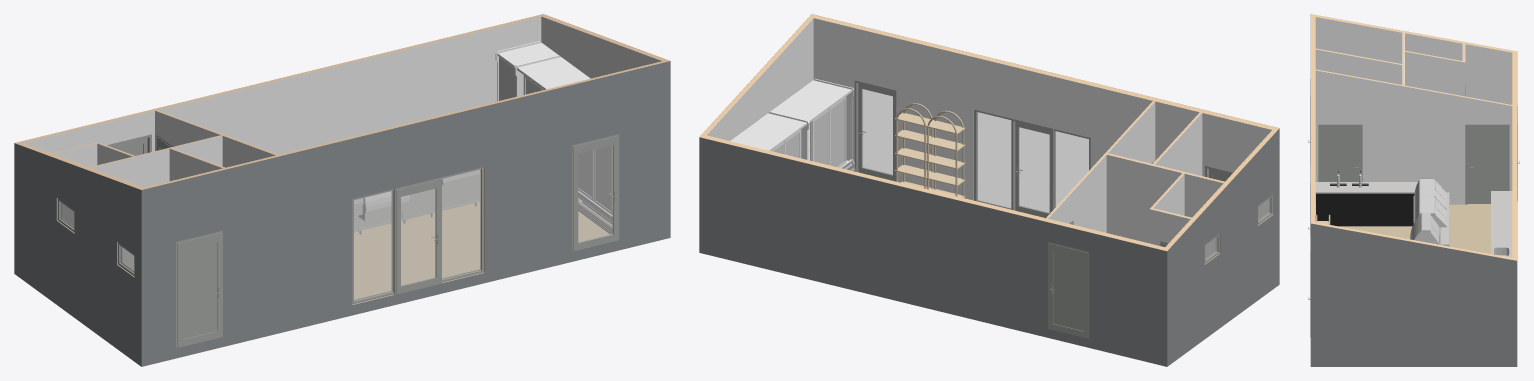
The model's file is Valkininkai_Mėsos krautuvėlė(5,0x12,0)_R01.fbx.
The picture shows the model from 3 angles, left to right: view 1: azimuth 30°, elevation 25°; view 2: azimuth 150°, elevation 25°; view 3: azimuth 270°, elevation 25°; orthographic projection. The views are drawn at different scales.
Visible parts, largest first — view 1: IfcBuildingElementPart/Part:2405523, IfcBuildingElementPart/Part:2405279, IfcBuildingElementPart/Part:2405271, IfcBuildingElementPart/Part:2405282, IfcDoor/Simple_vitree_-_03:1000x2300:2318509, IfcDoor/Simple_vitree_-_03:1000x2300:2319070, IfcDoor/Simple_vitree_-_03:1000x2300 nepermatomos durys:2319, IfcWindow/Aluprof_MB-86-SI_E_Alu_Window-1sash-FIX_ENG_R-0004, IfcWindow/Aluprof_MB-86-SI_E_Alu_Window-1sash-FIX_ENG_R-000, IfcBuildingElementPart/Part:2405276, IfcBuildingElementProxy/Freezer_-_Upright_Two_Door:62" Lengt, IfcBuildingElementPart/Part:2405264 (+14 smaller); view 2: IfcBuildingElementPart/Part:2405280, IfcBuildingElementPart/Part:2405522, IfcBuildingElementPart/Part:2405271, IfcBuildingElementProxy/Freezer_-_Upright_Two_Door:62" Lengt, IfcBuildingElementPart/Part:2405276, IfcBuildingElementPart/Part:2405263, IfcDoor/Simple_vitree_-_03:1000x2300:2318509, IfcDoor/Simple_vitree_-_03:1000x2300:2319070, IfcDoor/Simple_vitree_-_03:1000x2100:2321252, IfcWindow/Aluprof_MB-86-SI_E_Alu_Window-1sash-FIX_ENG_R-000, IfcBuildingElementPart/Part:2410921, IfcBuildingElementProxy/Freezer_-_Upright_Two_Door:62" Leng (+12 smaller); view 3: IfcBuildingElementPart/Part:2405277, IfcBuildingElementPart/Part:2405268, IfcBuildingElementPart/Part:2405270, IfcBuildingElementProxy/QF_Eagle_BPR-UDD-24-72:BPR-UDD-24-72, IfcDoor/Simple_vitree_-_03:1000x2100:2319457, IfcDoor/Simple_vitree_-_03:1000x2100:2411070, IfcBuildingElementPart/Part:2405282, IfcBuildingElementPart/Part:2405257, IfcBuildingElementPart/Part:2405260, IfcBuildingElementProxy/Food_Service_Equipment-Display_Case. (×2), IfcFurnishingElement/Workshop countertop6:Workshop counterto, IfcBuildingElementPart/Part:2405281 (+8 smaller).
Boxes of the visible parts, left/top/right/bottom form: IfcBuildingElementPart/Part:2405523: left=141, top=61, right=670, bottom=366; IfcBuildingElementPart/Part:2405279: left=23, top=16, right=541, bottom=154; IfcBuildingElementPart/Part:2405271: left=14, top=143, right=141, bottom=366; IfcBuildingElementPart/Part:2405282: left=354, top=199, right=612, bottom=299; IfcDoor/Simple_vitree_-_03:1000x2300:2318509: left=392, top=177, right=441, bottom=294; IfcDoor/Simple_vitree_-_03:1000x2300:2319070: left=572, top=134, right=619, bottom=251; IfcDoor/Simple_vitree_-_03:1000x2300 nepermatomos durys:2319: left=176, top=230, right=222, bottom=347; IfcWindow/Aluprof_MB-86-SI_E_Alu_Window-1sash-FIX_ENG_R-0004: left=352, top=189, right=394, bottom=304; IfcWindow/Aluprof_MB-86-SI_E_Alu_Window-1sash-FIX_ENG_R-000: left=442, top=167, right=483, bottom=282; IfcBuildingElementPart/Part:2405276: left=541, top=16, right=662, bottom=78; IfcBuildingElementProxy/Freezer_-_Upright_Two_Door:62" Lengt: left=578, top=145, right=612, bottom=234; IfcBuildingElementPart/Part:2405264: left=91, top=148, right=169, bottom=270; IfcBuildingElementPart/Part:2405280: left=699, top=137, right=1167, bottom=366; IfcBuildingElementPart/Part:2405522: left=813, top=18, right=1271, bottom=219; IfcBuildingElementPart/Part:2405271: left=1167, top=128, right=1279, bottom=366; IfcBuildingElementProxy/Freezer_-_Upright_Two_Door:62" Lengt: left=770, top=78, right=855, bottom=171; IfcBuildingElementPart/Part:2405276: left=707, top=18, right=813, bottom=140; IfcBuildingElementPart/Part:2405263: left=1106, top=154, right=1182, bottom=243; IfcDoor/Simple_vitree_-_03:1000x2300:2318509: left=1011, top=118, right=1054, bottom=217; IfcDoor/Simple_vitree_-_03:1000x2300:2319070: left=854, top=80, right=896, bottom=181; IfcDoor/Simple_vitree_-_03:1000x2100:2321252: left=1048, top=241, right=1089, bottom=338; IfcWindow/Aluprof_MB-86-SI_E_Alu_Window-1sash-FIX_ENG_R-000: left=974, top=109, right=1015, bottom=209; IfcBuildingElementPart/Part:2410921: left=1048, top=155, right=1106, bottom=232; IfcBuildingElementProxy/Freezer_-_Upright_Two_Door:62" Leng: left=730, top=111, right=808, bottom=159; IfcBuildingElementPart/Part:2405277: left=1310, top=223, right=1516, bottom=366; IfcBuildingElementPart/Part:2405268: left=1315, top=70, right=1512, bottom=204; IfcBuildingElementPart/Part:2405270: left=1315, top=17, right=1512, bottom=104; IfcBuildingElementProxy/QF_Eagle_BPR-UDD-24-72:BPR-UDD-24-72: left=1315, top=171, right=1417, bottom=226; IfcDoor/Simple_vitree_-_03:1000x2100:2319457: left=1465, top=124, right=1509, bottom=204; IfcDoor/Simple_vitree_-_03:1000x2100:2411070: left=1318, top=124, right=1362, bottom=181; IfcBuildingElementPart/Part:2405282: left=1315, top=204, right=1490, bottom=253; IfcBuildingElementPart/Part:2405257: left=1405, top=51, right=1465, bottom=96; IfcBuildingElementPart/Part:2405260: left=1315, top=49, right=1402, bottom=84; IfcBuildingElementProxy/Food_Service_Equipment-Display_Case. (×2): left=1413, top=178, right=1449, bottom=227; IfcFurnishingElement/Workshop countertop6:Workshop counterto: left=1491, top=191, right=1512, bottom=240; IfcBuildingElementPart/Part:2405281: left=1512, top=50, right=1516, bottom=260.
Bounding box in the file's own units: 1200 × 383 × 512.
